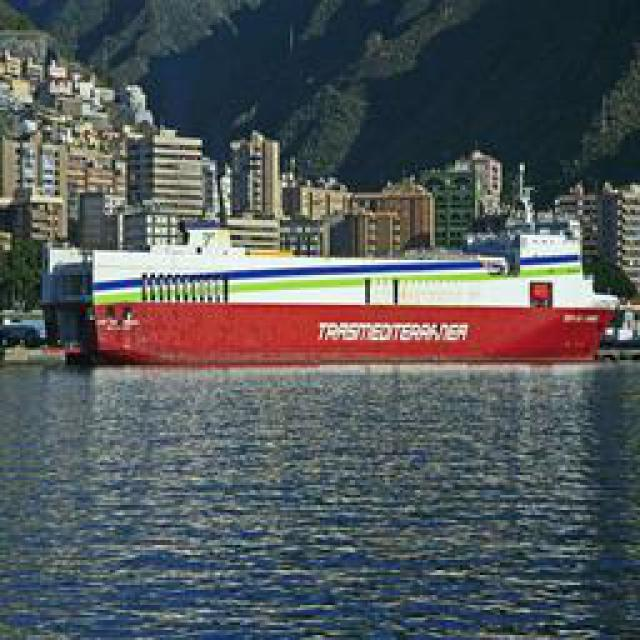Ship: (50, 184, 627, 376)
